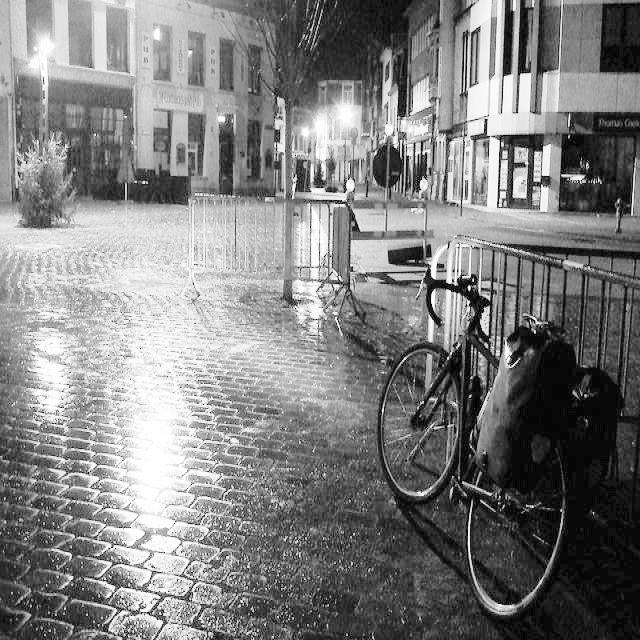Bicycle: (372, 257, 615, 624)
Sign: (371, 142, 405, 185)
